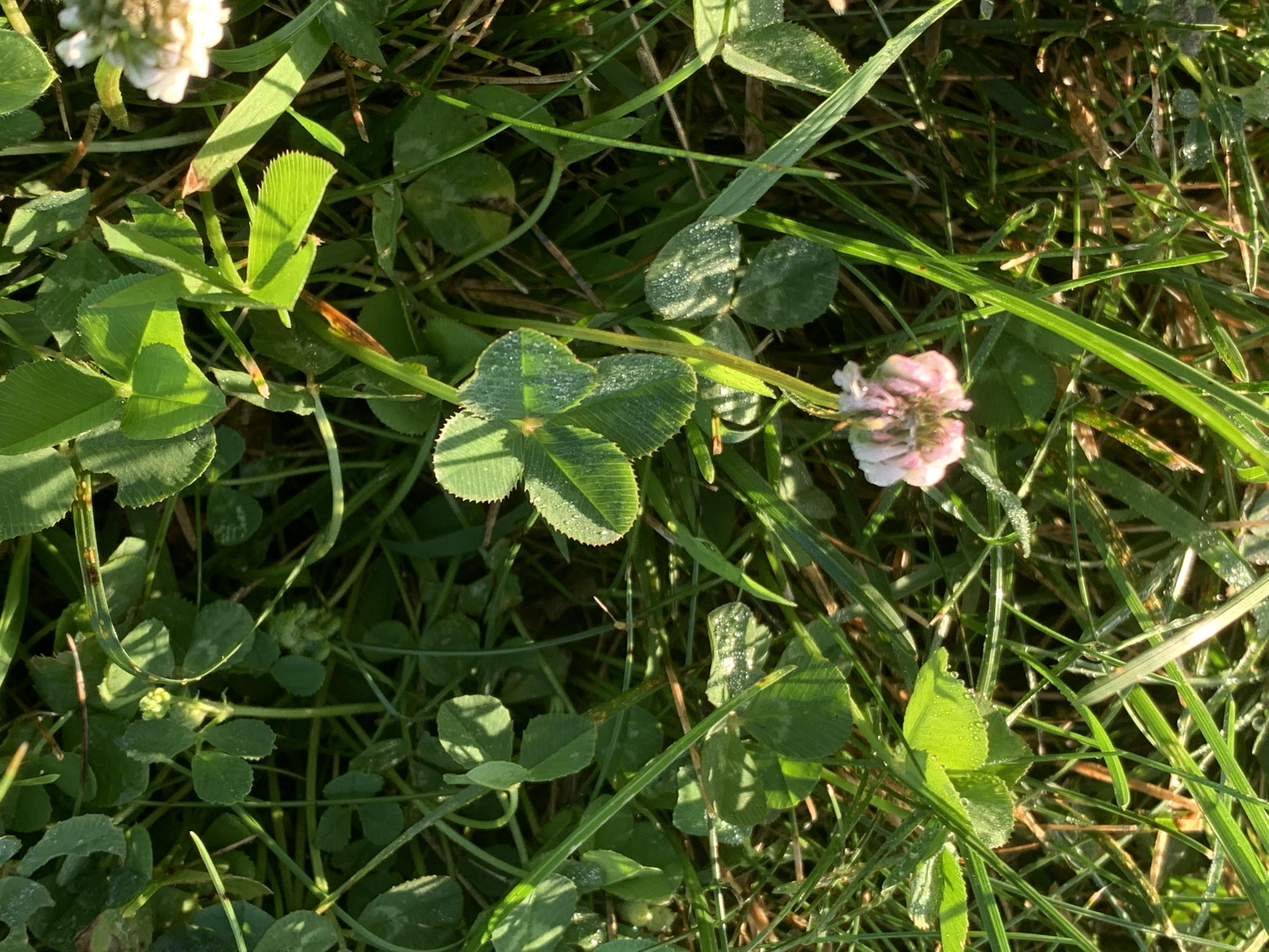4-Leaf-Clovers: (551, 322, 832, 524)
